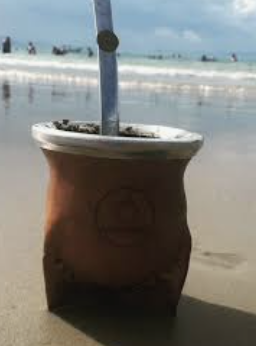madera: (30, 113, 198, 322)
mate: (25, 112, 207, 326)
